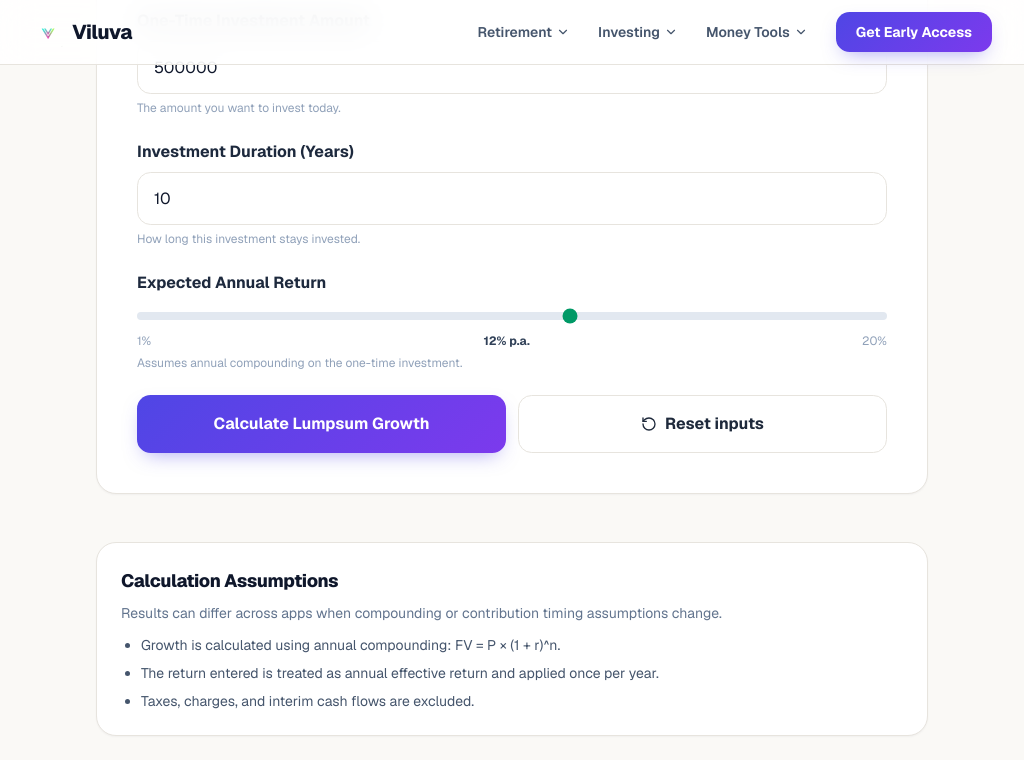
Test: Investment calculators UI › calculates the default lumpsum projection
(page scrolled)
Click the button "Calculate Lumpsum Growth" at (322, 424), box x1=137 y1=395 x2=506 y2=453
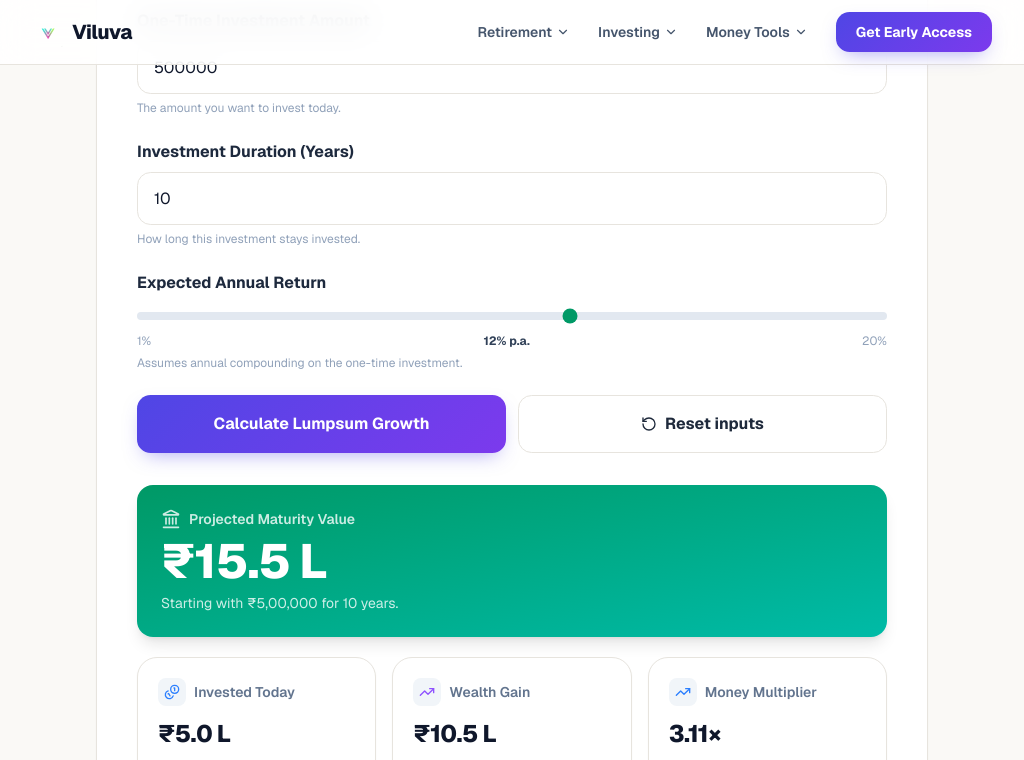
Check: the text "Projected Maturity Value" is shown, box x1=161 y1=509 x2=355 y2=529
Check: the text "₹15.5 L" is shown, box x1=161 y1=530 x2=326 y2=592
